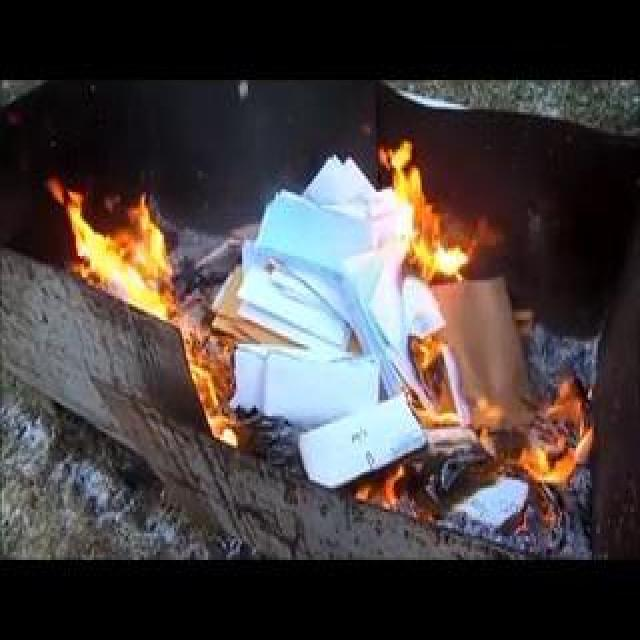Fire: (61, 188, 184, 314), (382, 146, 460, 280), (521, 388, 596, 484), (186, 344, 230, 438), (410, 338, 452, 428), (354, 474, 420, 516)
